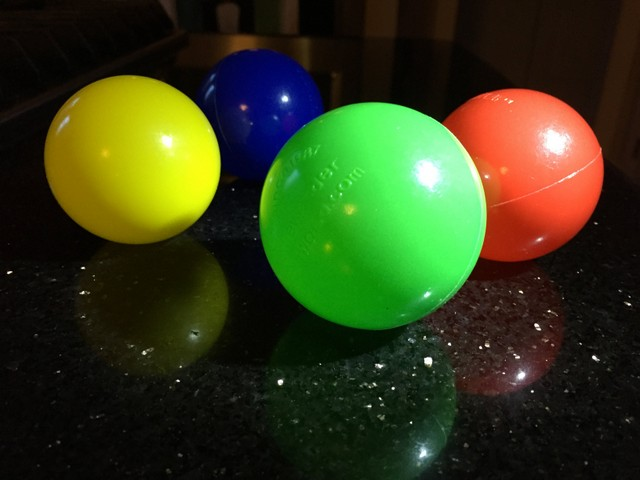ball: (44, 72, 222, 242)
